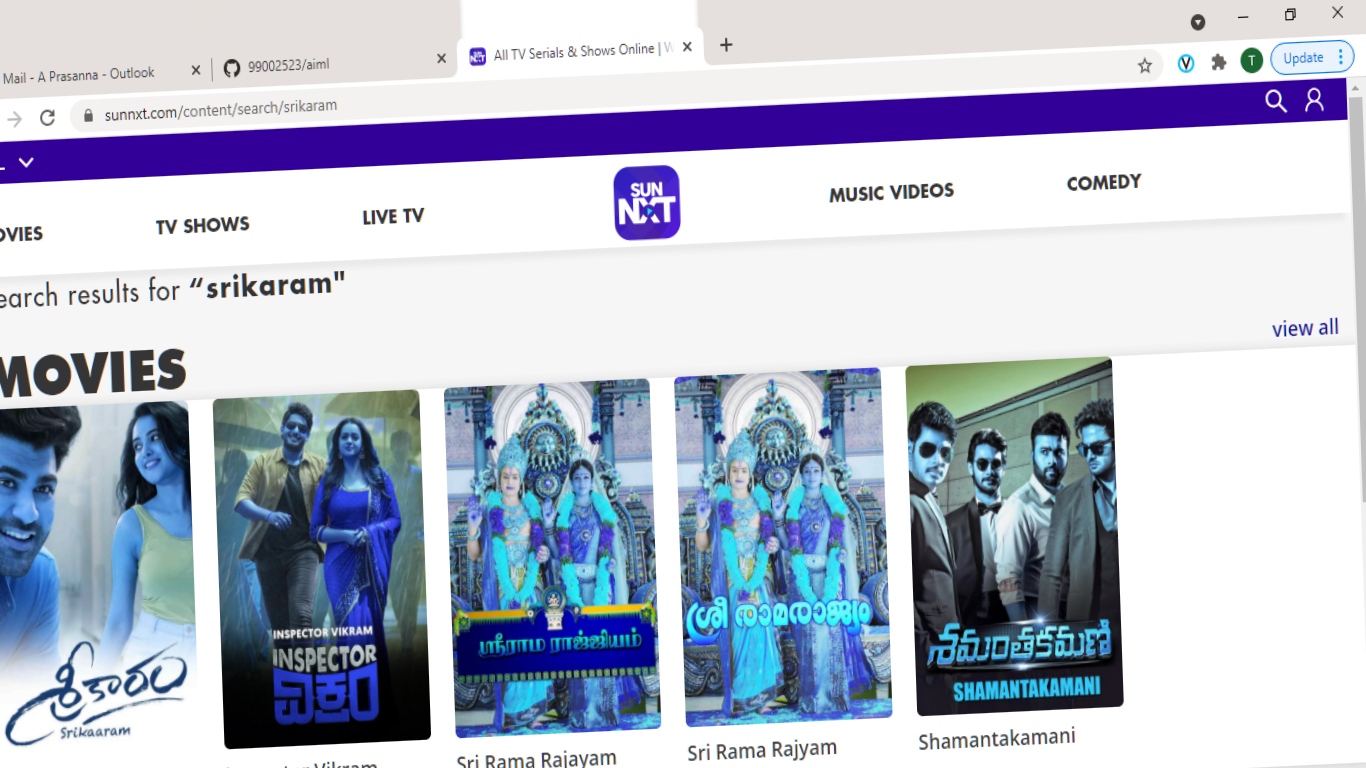profileicon: (1297, 79, 1337, 123)
resultsfound: (1, 265, 351, 315)
searchicon: (1252, 77, 1292, 123)
